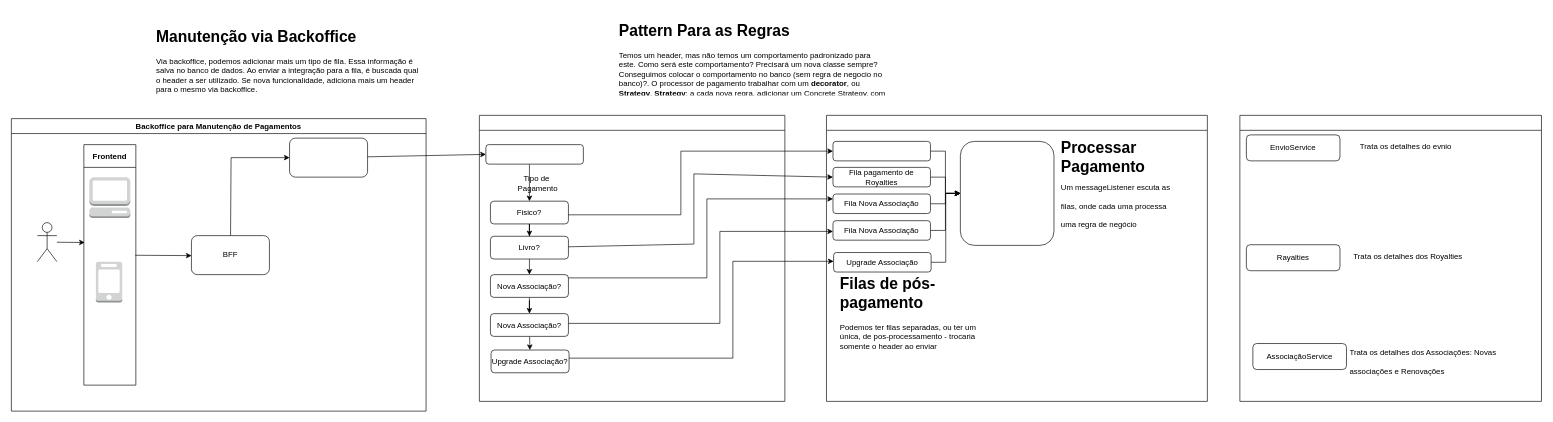
This 1553x422 diagram has some shape labels left out. The box of each missing label's shape, as (x1, y1, x2, y2) in pixels:
Backoffice Backend: (289, 137, 368, 177)
Fila Remessa Envio: (832, 141, 930, 161)
Message Broker: (826, 115, 1207, 401)
Módulo de Pagamento: (479, 115, 785, 401)
Pagamento Efetuado: (485, 144, 583, 164)
PosPagmentoProcessor: (960, 141, 1054, 245)
Product Manager: (37, 222, 57, 262)
Pós-pagamento - Detalhes: (1239, 115, 1541, 401)
